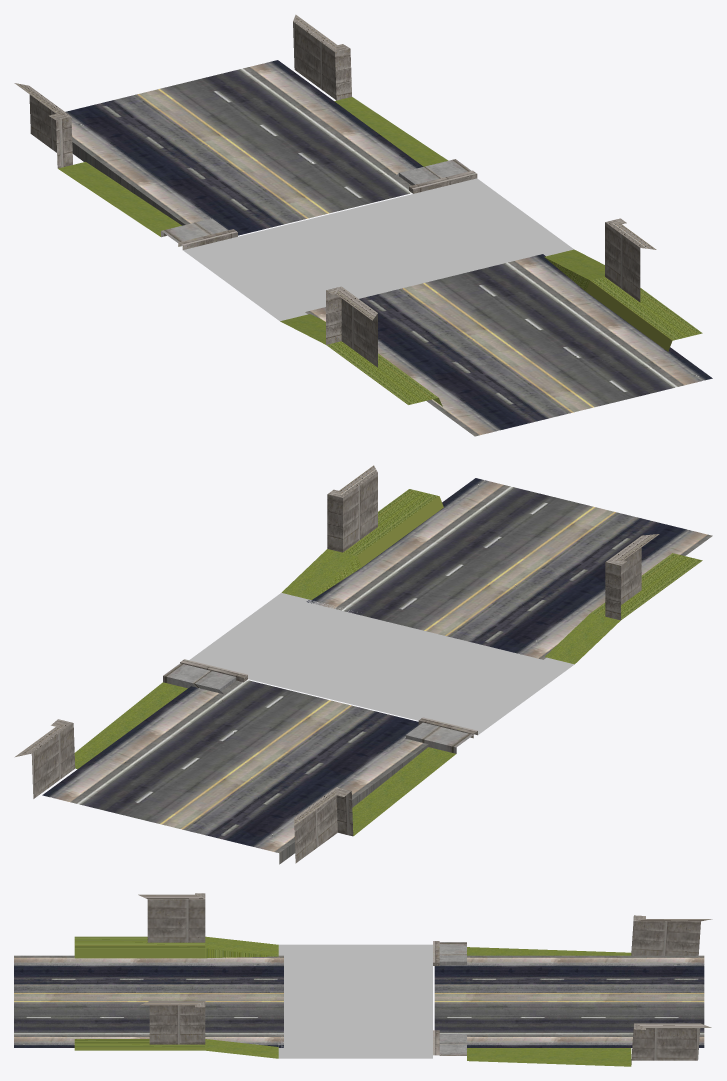
The model's file is Intersection.FBX.
3 views of the same model, one above another, from view 1: azimuth 30°, elevation 25°; view 2: azimuth 150°, elevation 25°; view 3: azimuth 270°, elevation 25° (orthographic). The views are drawn at different scales.
Visible parts, largest first — view 1: ENVIRO_007, ENVIRO_008, ENVIRO_03, ENVIRO_06, ENVIRO_05, ENVIRO_01, ENVIRO_02, ENVIRO_04; view 2: ENVIRO_007, ENVIRO_008, ENVIRO_03, ENVIRO_06, ENVIRO_05, ENVIRO_01, ENVIRO_02, ENVIRO_04; view 3: ENVIRO_007, ENVIRO_008, ENVIRO_03, ENVIRO_06, ENVIRO_05, ENVIRO_01, ENVIRO_02, ENVIRO_04.
Boxes of the visible parts, x1=… form: ENVIRO_007: x1=65, y1=60, x2=423, y2=235; ENVIRO_008: x1=305, y1=254, x2=712, y2=436; ENVIRO_03: x1=183, y1=178, x2=573, y2=321; ENVIRO_06: x1=14, y1=14, x2=656, y2=367; ENVIRO_05: x1=280, y1=249, x2=702, y2=406; ENVIRO_01: x1=58, y1=97, x2=448, y2=236; ENVIRO_02: x1=161, y1=159, x2=471, y2=242; ENVIRO_04: x1=178, y1=170, x2=477, y2=249; ENVIRO_007: x1=42, y1=680, x2=428, y2=864; ENVIRO_008: x1=306, y1=478, x2=712, y2=659; ENVIRO_03: x1=189, y1=593, x2=574, y2=734; ENVIRO_06: x1=14, y1=465, x2=659, y2=863; ENVIRO_05: x1=281, y1=489, x2=702, y2=664; ENVIRO_01: x1=74, y1=682, x2=455, y2=835; ENVIRO_02: x1=163, y1=663, x2=472, y2=753; ENVIRO_04: x1=180, y1=659, x2=477, y2=738; ENVIRO_007: x1=434, y1=955, x2=704, y2=1047; ENVIRO_008: x1=14, y1=955, x2=283, y2=1047; ENVIRO_03: x1=278, y1=944, x2=432, y2=1058; ENVIRO_06: x1=138, y1=893, x2=712, y2=1064; ENVIRO_05: x1=74, y1=936, x2=278, y2=1058; ENVIRO_01: x1=467, y1=947, x2=631, y2=1066; ENVIRO_02: x1=439, y1=942, x2=466, y2=1055; ENVIRO_04: x1=433, y1=941, x2=439, y2=1055.
Bounding box in the file's own units: 105 × 26.42 × 272.
